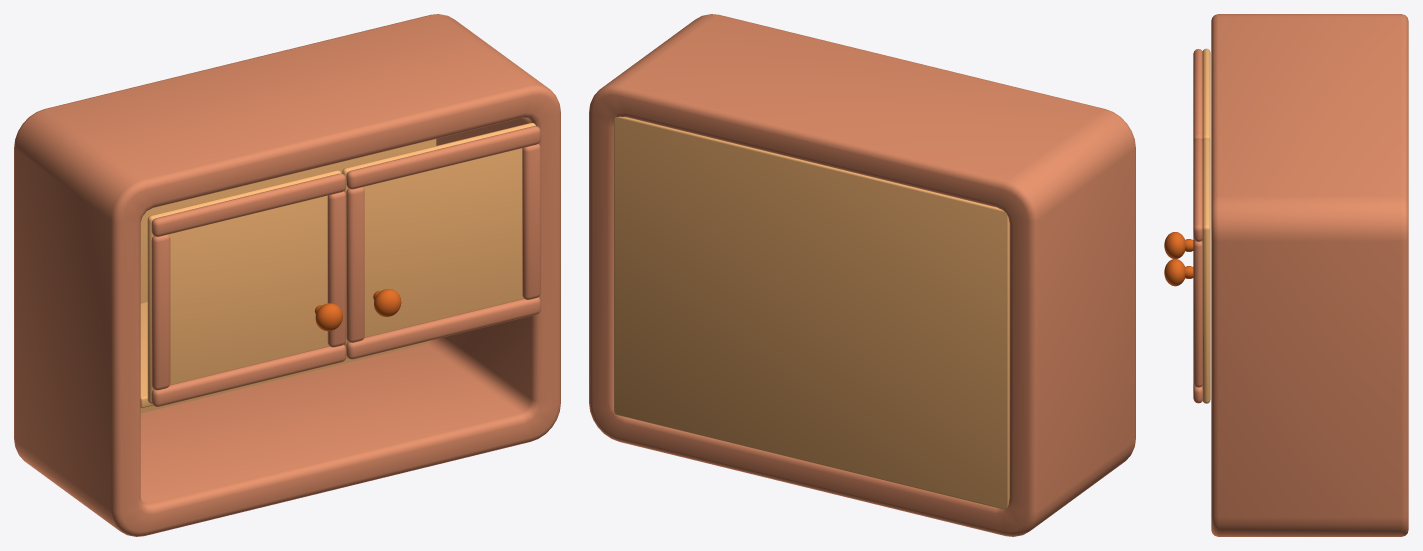
File: armario_parede_nicho_campestre.glb
The picture shows the model from 3 angles, left to right: view 1: azimuth 30°, elevation 25°; view 2: azimuth 150°, elevation 25°; view 3: azimuth 270°, elevation 25°; orthographic projection. The views are drawn at different scales.
Visible parts, largest first — view 1: armario_parede_nicho_campestre, porta_1, porta_2; view 2: armario_parede_nicho_campestre; view 3: armario_parede_nicho_campestre, porta_2, porta_1.
Part boxes in pixels (x1,y1,x2,y2): armario_parede_nicho_campestre: (14, 14, 560, 536); porta_1: (147, 170, 345, 406); porta_2: (342, 123, 540, 359); armario_parede_nicho_campestre: (589, 14, 1135, 536); armario_parede_nicho_campestre: (1211, 14, 1408, 536); porta_2: (1164, 138, 1210, 403); porta_1: (1164, 48, 1210, 258).
Bounding box in the file's own units: 0.792 × 0.6 × 0.3936.
Materials: 1 (1 with a texture image).
